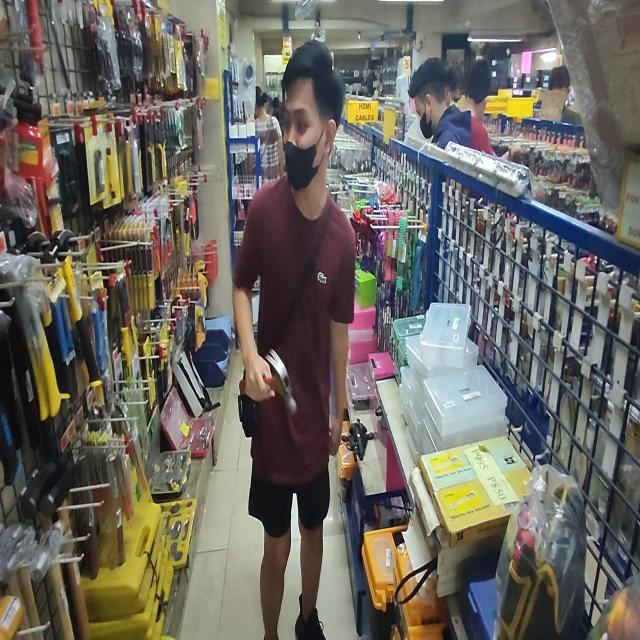hammer: (239, 348, 297, 416)
